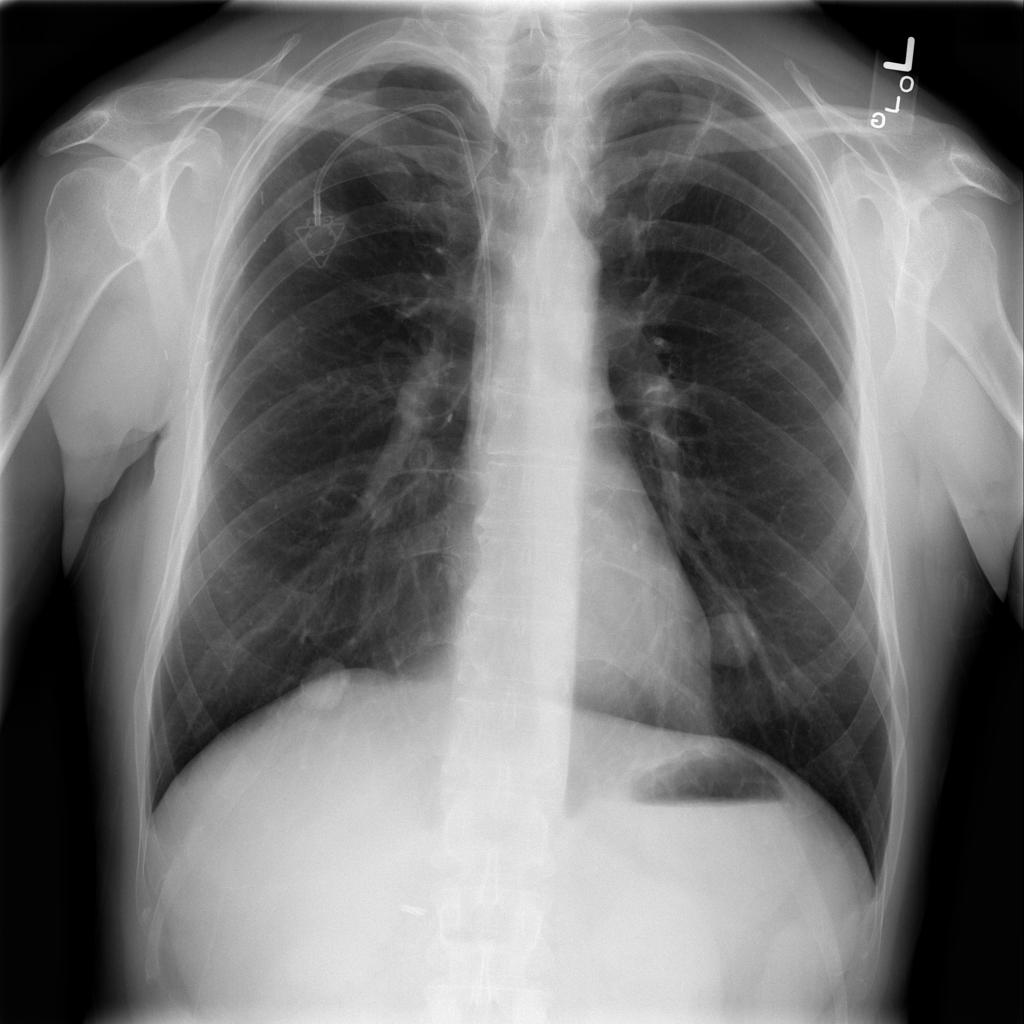nodule: (682, 571, 780, 693), (273, 206, 361, 277), (283, 647, 364, 723)
